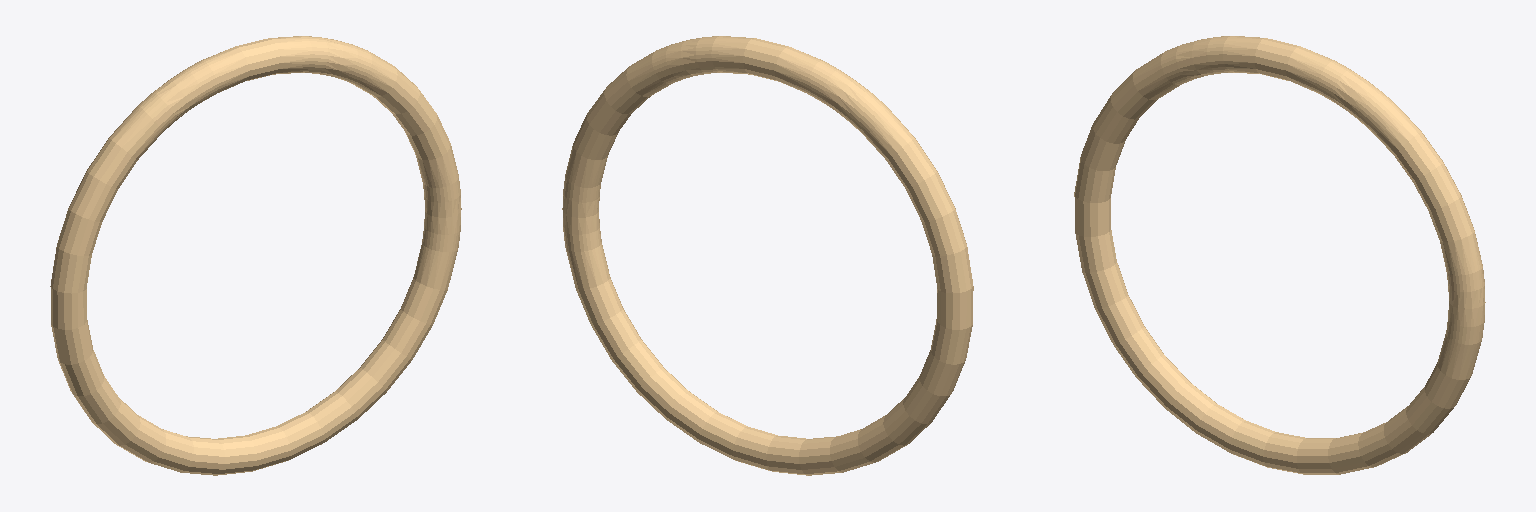
Rendered from hoop_collider.obj.
3 views of the same model, side by side, from view 1: azimuth 30°, elevation 25°; view 2: azimuth 150°, elevation 25°; view 3: azimuth 330°, elevation 25° (orthographic).
Size of the model in its own units: 28.46 by 28.44 by 2.24.